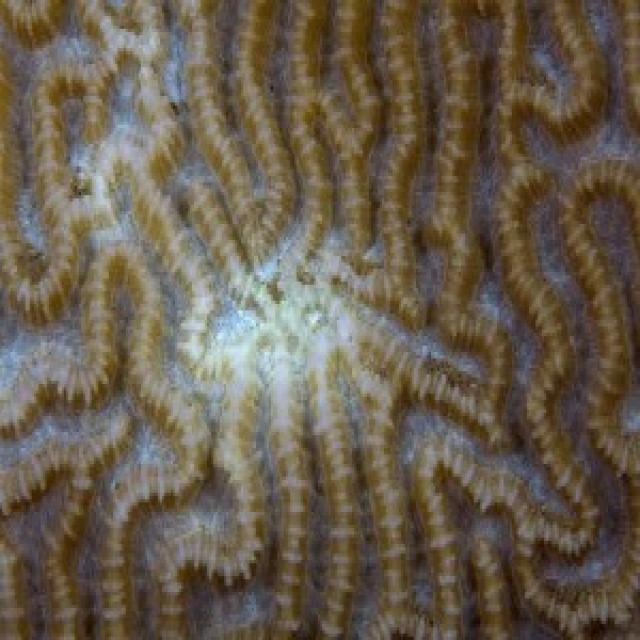Bleached Coral: (182, 178, 435, 462), (30, 0, 217, 305)
